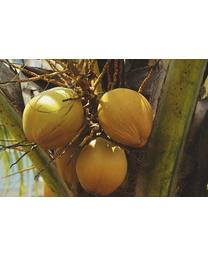coconut: (23, 86, 86, 147), (97, 88, 154, 149), (75, 136, 128, 196)
